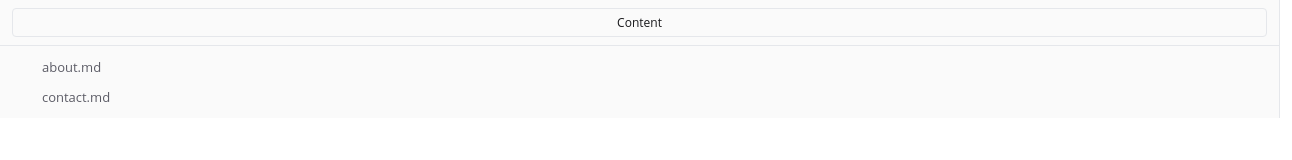
it: Sidebar › shows all six view options in the dropdown when opened
Click the button "Content": (640, 22) [12,8,1267,37]
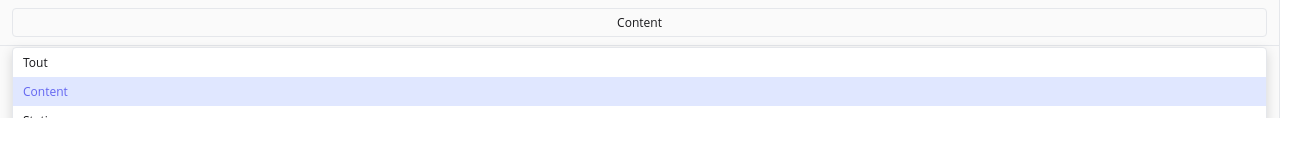
Expected: the text "Tout" is shown, [23,54,48,71]
Expected: the text "Content" is shown 2 times, [617,14,662,31]; [23,83,68,100]
